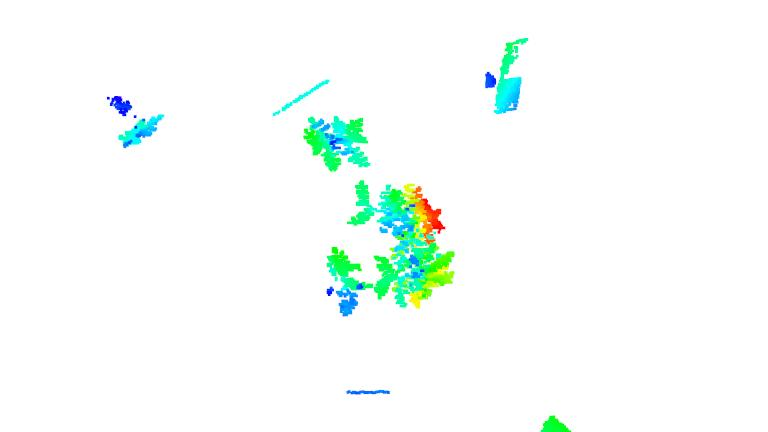chickpea: (347, 180, 448, 248), (373, 244, 456, 310), (299, 114, 375, 175), (104, 92, 167, 151), (322, 249, 368, 321)
